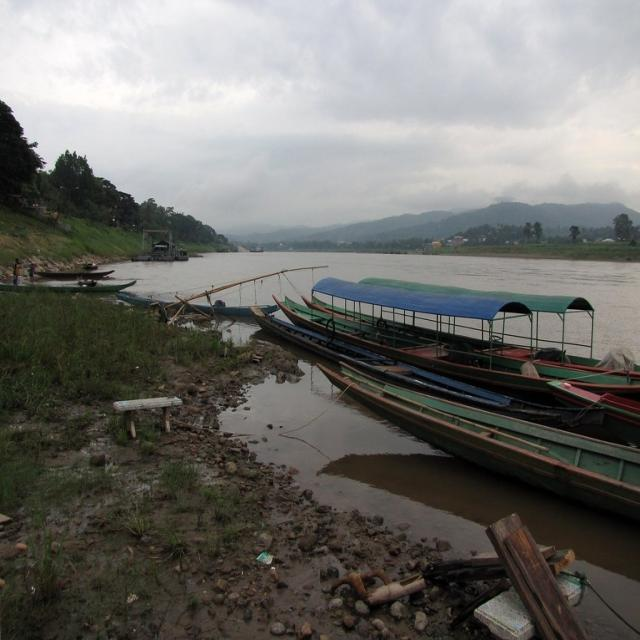boat: (117, 289, 280, 317), (34, 264, 116, 281)
